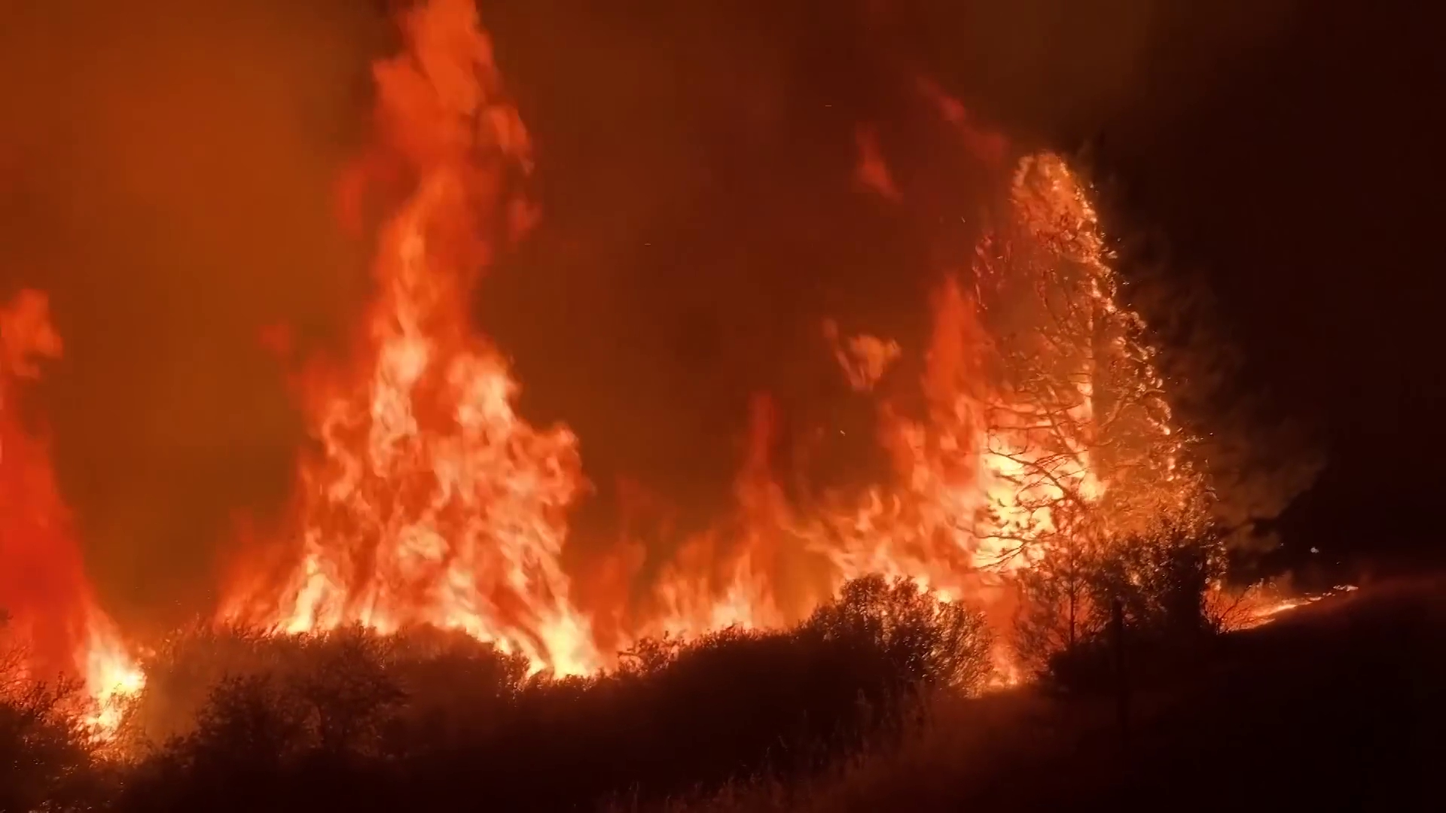forest_fire: (215, 0, 1211, 675), (0, 293, 145, 732), (1206, 583, 1326, 632), (856, 128, 905, 204), (997, 647, 1017, 682), (618, 540, 635, 550), (269, 336, 284, 343)
